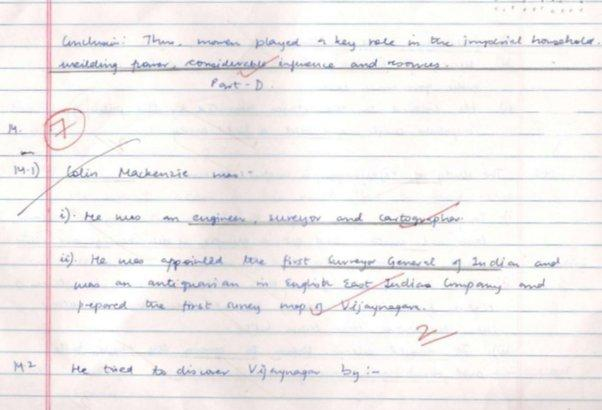text: (58, 251, 562, 274), (60, 32, 601, 52), (71, 276, 547, 297), (57, 205, 465, 229), (56, 56, 450, 76), (74, 298, 428, 319), (71, 362, 382, 385), (64, 164, 255, 180), (210, 77, 266, 93), (49, 115, 78, 142), (12, 159, 40, 180), (414, 322, 439, 343), (10, 359, 36, 375), (6, 124, 23, 135)
